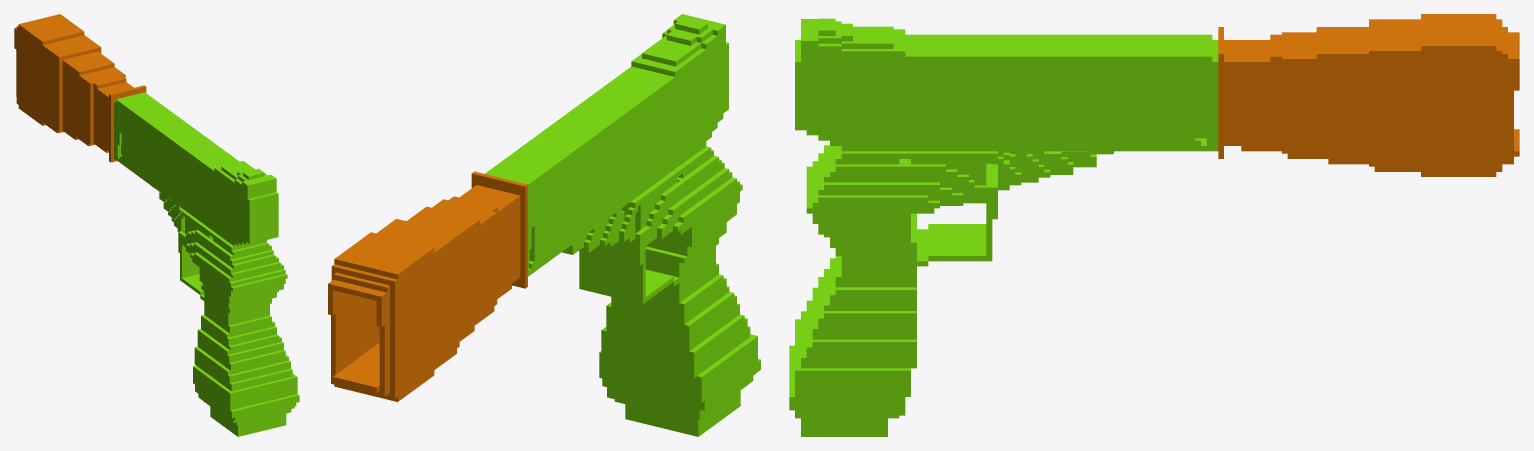
The model's file is gun.glb.
The picture shows the model from 3 angles, left to right: view 1: azimuth 30°, elevation 25°; view 2: azimuth 150°, elevation 25°; view 3: azimuth 270°, elevation 25°; orthographic projection. The views are drawn at different scales.
Visible parts, largest first — view 1: Cube; view 2: Cube; view 3: Cube.
Boxes of the visible parts, bbox=[...] form: Cube: bbox=[14, 14, 299, 436]; Cube: bbox=[328, 14, 760, 436]; Cube: bbox=[789, 14, 1519, 436].
Size of the model in its own units: 2.2 by 7.85 by 13.18.
